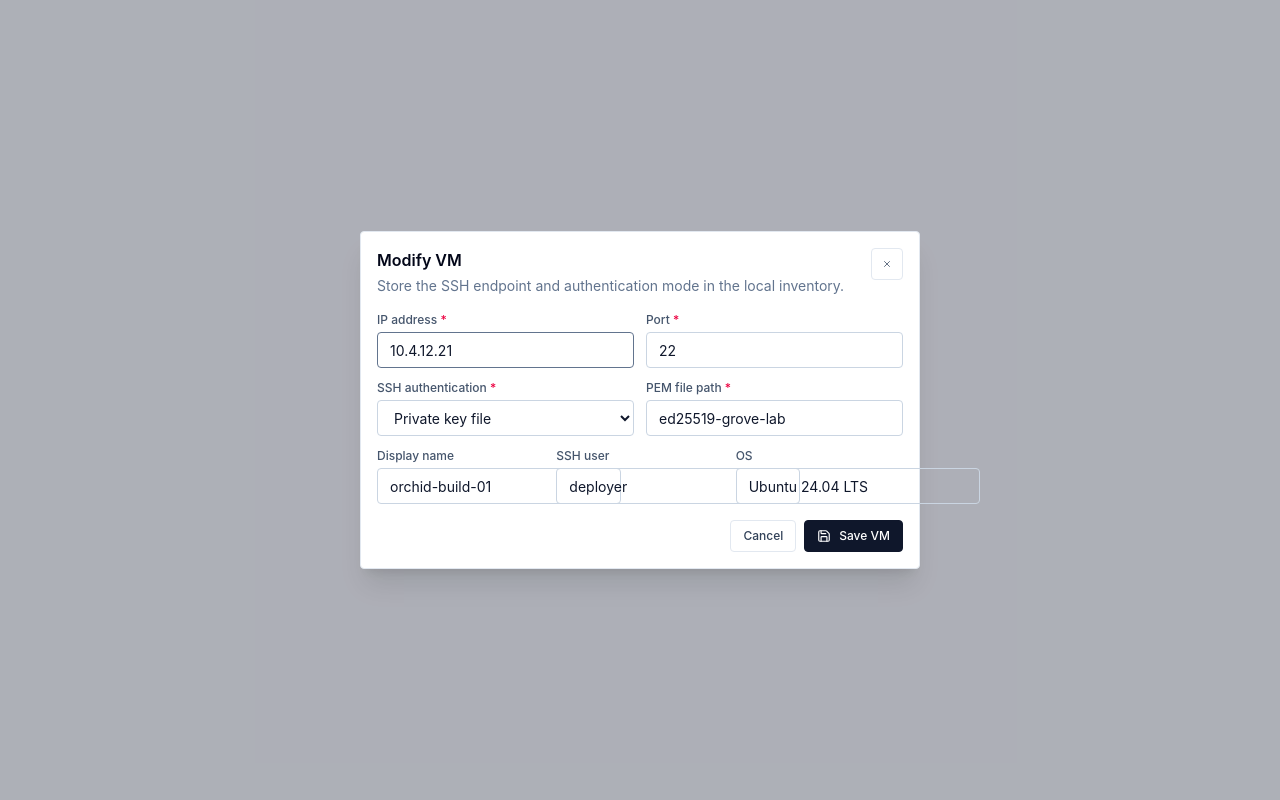
Scenario: VmEditorDialog keyless auth modes › still requires a PEM path for key-file VMs
The image size is (1280, 800).
Step 1. Clear the field with placeholder "keys/example.pem" → (774, 418), box [646, 400, 903, 436]
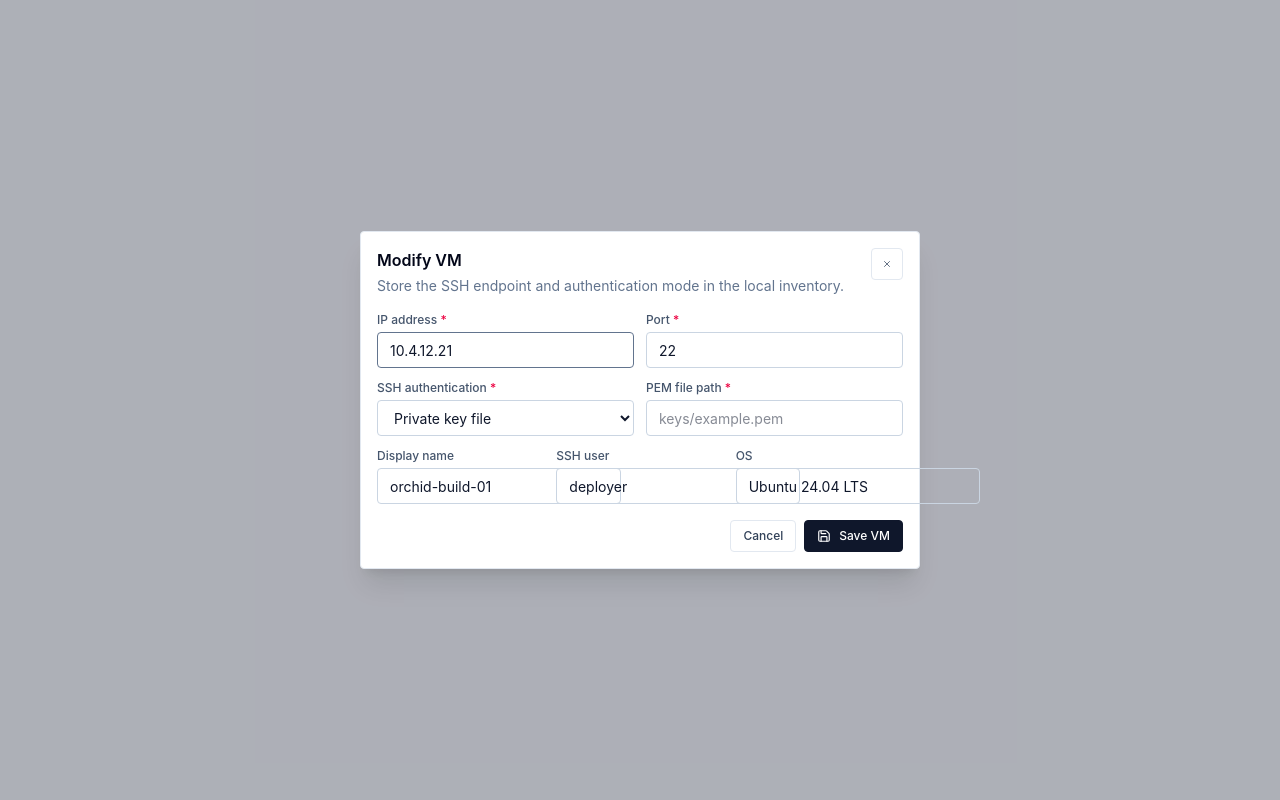
Step 2. Submit the form with placeholder "keys/example.pem", box [377, 312, 903, 552]
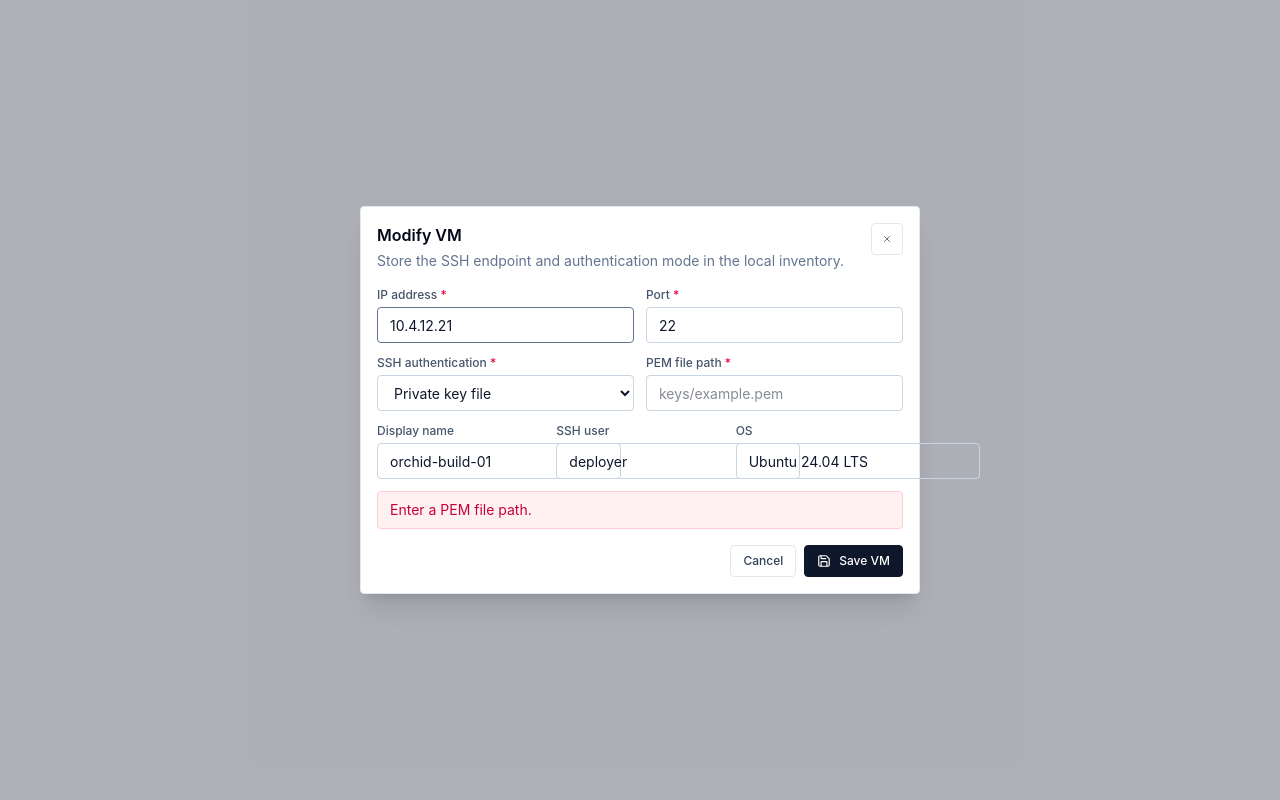
Check: the text "Enter a PEM file path." is shown, box [377, 491, 903, 529]
